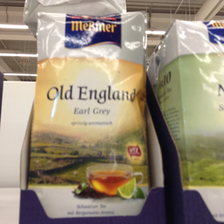tea: (30, 11, 149, 217), (155, 20, 224, 221)
